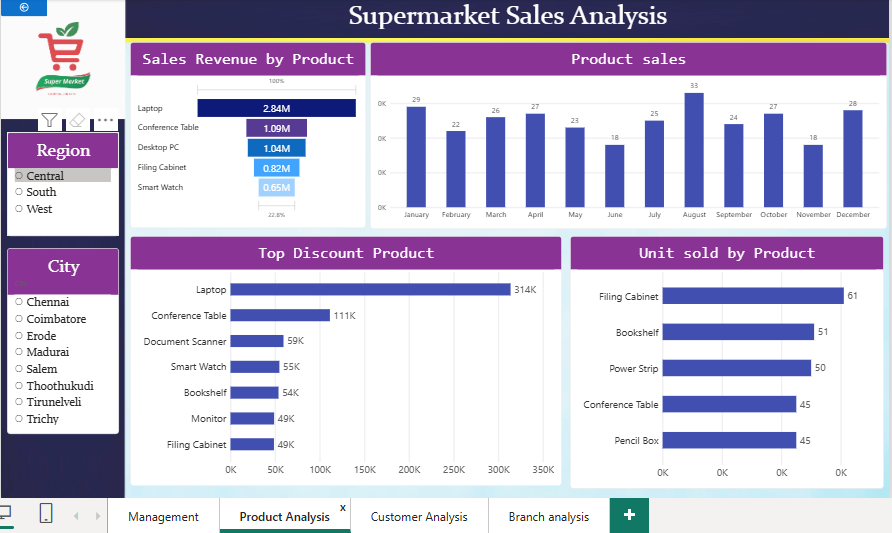

The page's visual inventory and layout, read from the dashboard file:
{"tool":"powerbi","page":{"name":"Product Analysis","canvas":[1920,1080],"ordinal":1},"visuals":[{"type":"listSlicer","title":"City","fields":{"Values":["Branch.City"]},"box":[13,540,241.9,401.8],"z":0},{"type":"clusteredColumnChart","title":"Product sales","fields":{"Category":["Sales.Date.Variation.Date Hierarchy.Month"],"Y":["Sales.total invoice"]},"box":[797,95,1116.7,403.9],"z":1000},{"type":"funnel","title":"Sales Revenue by Product ","fields":{"Y":["Product.totals sales"],"Category":["Product.Product_Name"]},"box":[278.6,95,509.8,401.8],"z":2000},{"type":"clusteredBarChart","title":"Top Discount Product ","fields":{"Category":["Product.Product_Name"],"Y":["Sum(Sales.Discount)"]},"box":[278.6,514.1,933.1,540],"z":3000},{"type":"clusteredBarChart","title":"Unit sold by Product ","fields":{"Category":["Product.Product_Name"],"Y":["Sales.total quantity"]},"box":[1229,514.1,678.2,546.5],"z":4000},{"type":"image","title":"Supermarket Sales Analysis ","box":[278.6,0,1633,67],"z":5000},{"type":"listSlicer","fields":{"Values":["Branch.Region"]},"box":[13,289.4,241.9,224.6],"z":5001},{"type":"actionButton","box":[0,0,100,40],"z":5002}]}

Visuals, with their boxes on the page's 1920x1080 design canvas (x1, y1, x2, y2). These are canvas units, not pixel positions in the 892x533 screenshot, which may show the page scaled, cropped or inside an application window:
"City" listSlicer: [left=13, top=540, right=255, bottom=942]
"Product sales" clusteredColumnChart: [left=797, top=95, right=1914, bottom=499]
"Sales Revenue by Product " funnel: [left=279, top=95, right=788, bottom=497]
"Top Discount Product " clusteredBarChart: [left=279, top=514, right=1212, bottom=1054]
"Unit sold by Product " clusteredBarChart: [left=1229, top=514, right=1907, bottom=1061]
"Supermarket Sales Analysis " image: [left=279, top=0, right=1912, bottom=67]
listSlicer - Branch.Region: [left=13, top=289, right=255, bottom=514]
actionButton: [left=0, top=0, right=100, bottom=40]
